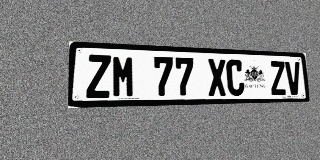7: (152, 57, 174, 97), (174, 57, 195, 97)
C: (226, 59, 245, 96)
M: (112, 55, 135, 98)
V: (285, 61, 302, 95)
X: (207, 59, 227, 96)
Z: (86, 54, 111, 98), (269, 61, 287, 95)
